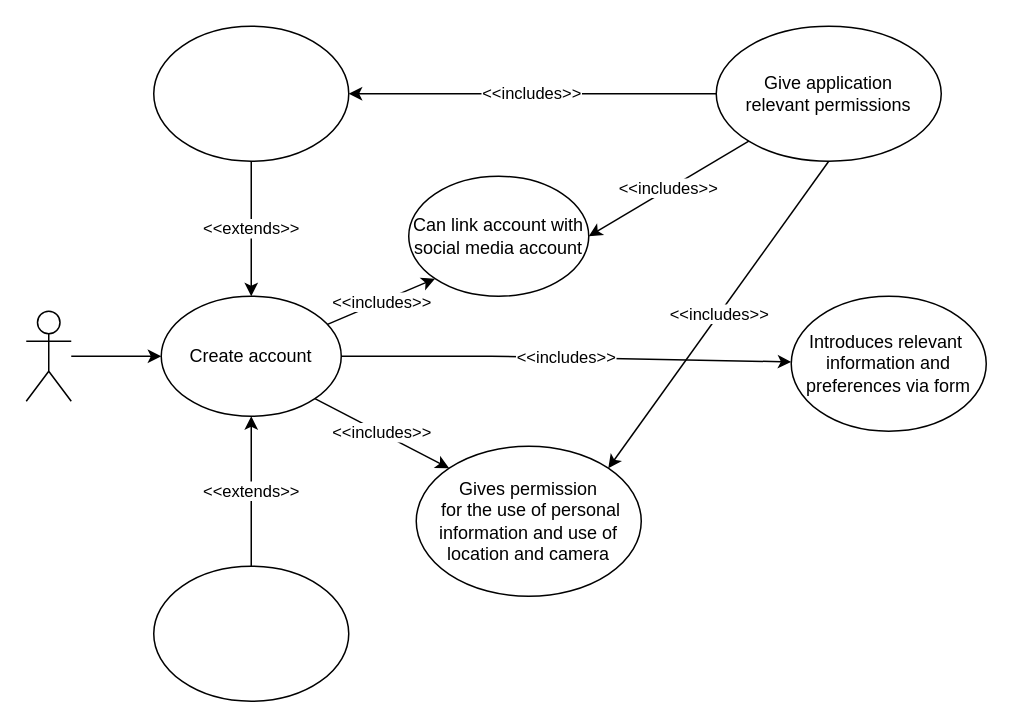
This 1013x728 diagram has some shape labels left out. Here are the shapes that lost their labels. From the top down, the centre of each, then its label:
At point (250, 93): "Create account using external API(Google, Facebook, etc.)".
At point (48, 355): "User".
At point (250, 633): "Create account using sign-up form".
